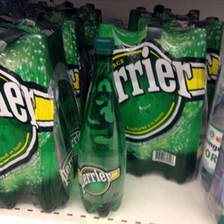water: (79, 38, 126, 220)
